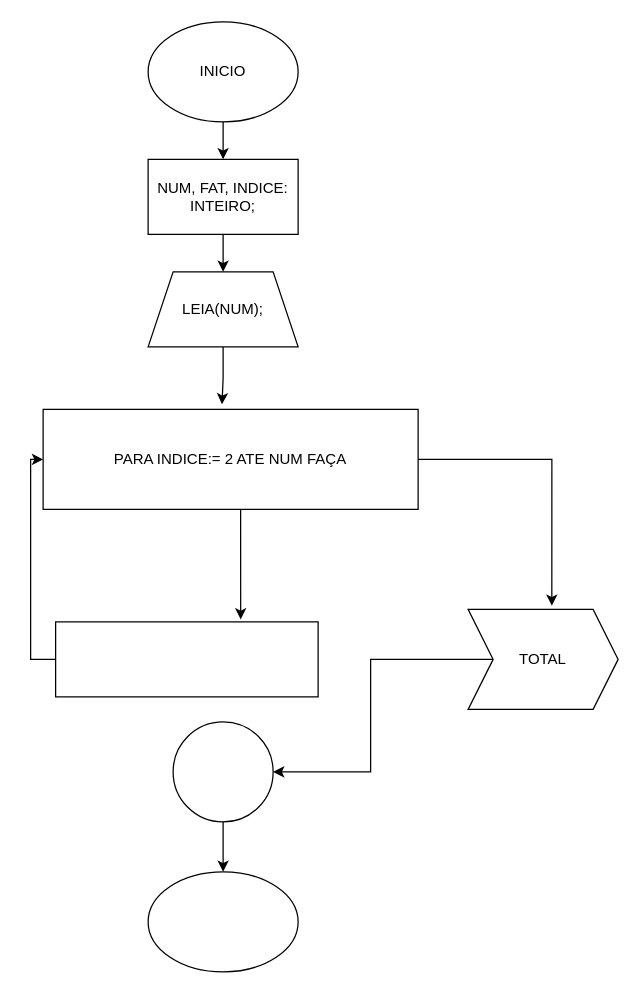
Image size: 640x994. Some labels were removed from this diagram. Each missing label, with the centre of its shape:
"FAT:= FAT * INDICE" belongs at pixel 186 659.
"FIM" belongs at pixel 222 921.
